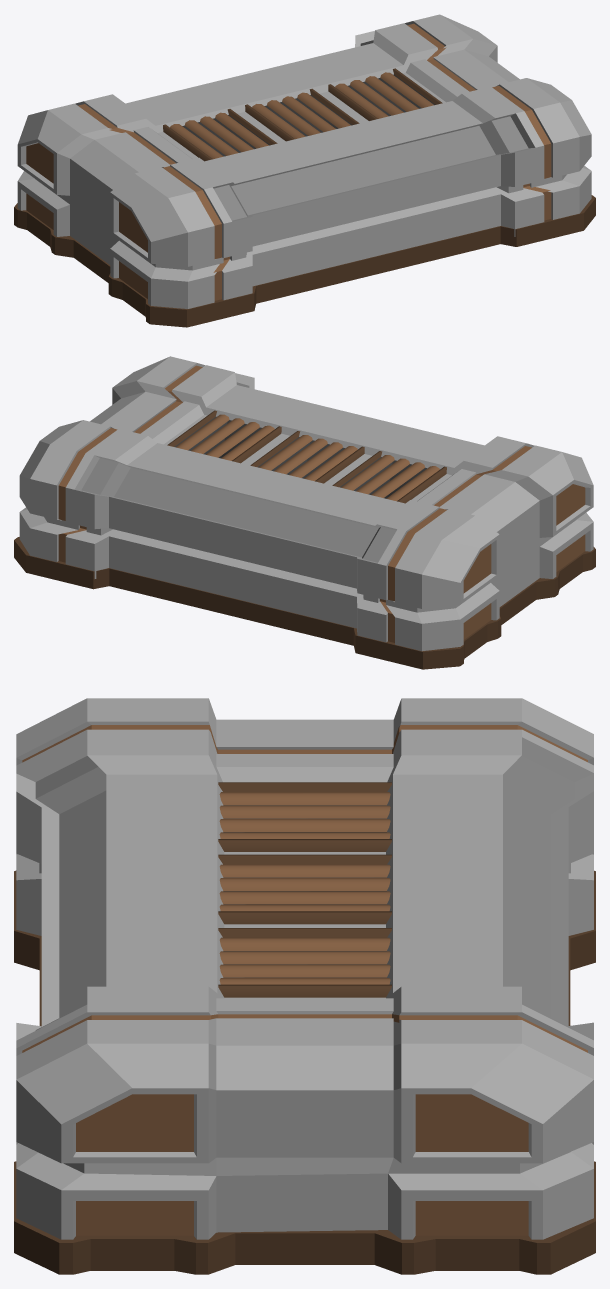
Rendered from ChestTop.fbx.
3 renders of one model, top to bottom at view 1: azimuth 30°, elevation 25°; view 2: azimuth 150°, elevation 25°; view 3: azimuth 270°, elevation 25°, orthographic. The views are drawn at different scales.
Parts seen in each view (by area): view 1: Props_ChestTop.001; view 2: Props_ChestTop.001; view 3: Props_ChestTop.001.
Part boxes in pixels (x1,y1,x2,y2): Props_ChestTop.001: (14, 14, 595, 327); Props_ChestTop.001: (14, 356, 595, 669); Props_ChestTop.001: (14, 698, 595, 1274).
Bounding box in the file's own units: 1.29 × 0.3151 × 0.8052.
